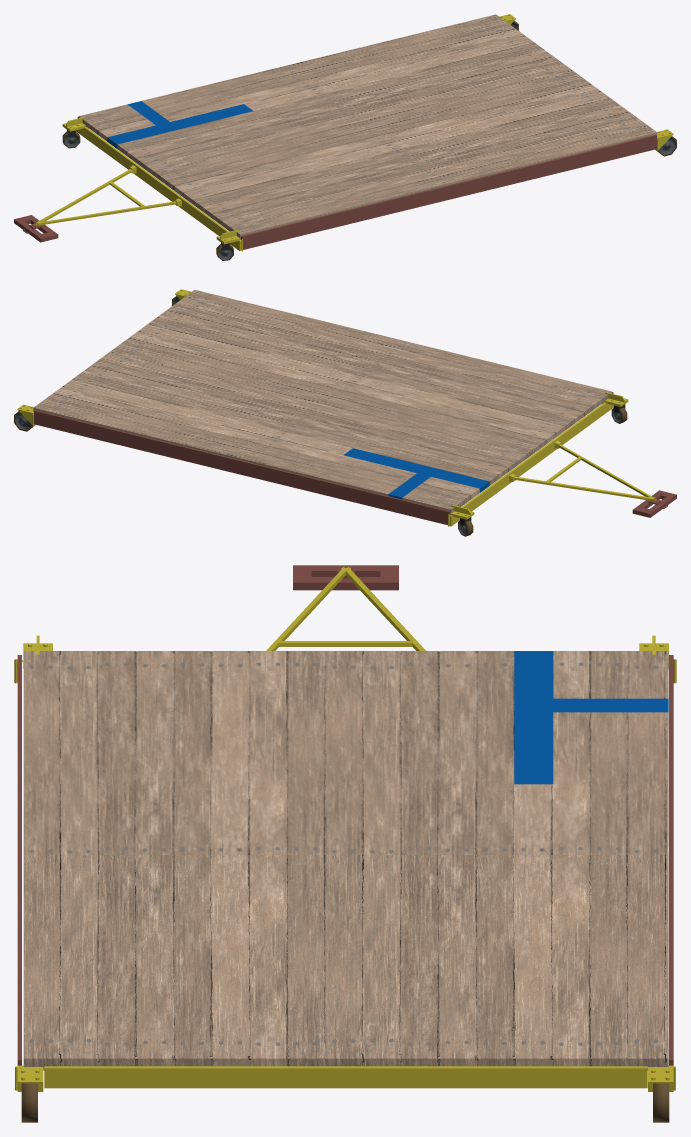
The model's file is edap-helicopter-dolly_LOD01.gltf.
3 views of the same model, one above another, from view 1: azimuth 30°, elevation 25°; view 2: azimuth 150°, elevation 25°; view 3: azimuth 270°, elevation 25° (orthographic). The views are drawn at different scales.
Visible parts, largest first — view 1: platform.001, side frame.002, front frame.001, shackle.001, rusted metal thingie.001; view 2: platform.001, side frame.003, front frame.001, shackle.001, rusted metal thingie.001; view 3: platform.001, rear frame.001, shackle.001, rusted metal thingie.001, side frame.002, side frame.003.
Part boxes in pixels (x1,y1,x2,y2): platform.001: (78,14,657,237); side frame.002: (240,135,656,249); front frame.001: (75,127,242,251); shackle.001: (34,169,176,225); rusted metal thingie.001: (14,215,58,242); platform.001: (33,290,612,513); side frame.003: (34,410,450,525); front frame.001: (448,393,613,526); shackle.001: (514,444,656,501); rusted metal thingie.001: (632,490,676,517); platform.001: (23,651,668,1070); rear frame.001: (44,1066,647,1088); shackle.001: (266,566,425,650); rusted metal thingie.001: (293,565,398,590); side frame.002: (17,655,21,1065); side frame.003: (669,655,673,1065).
Size of the model in its own units: 5 by 0.2215 by 2.51.
